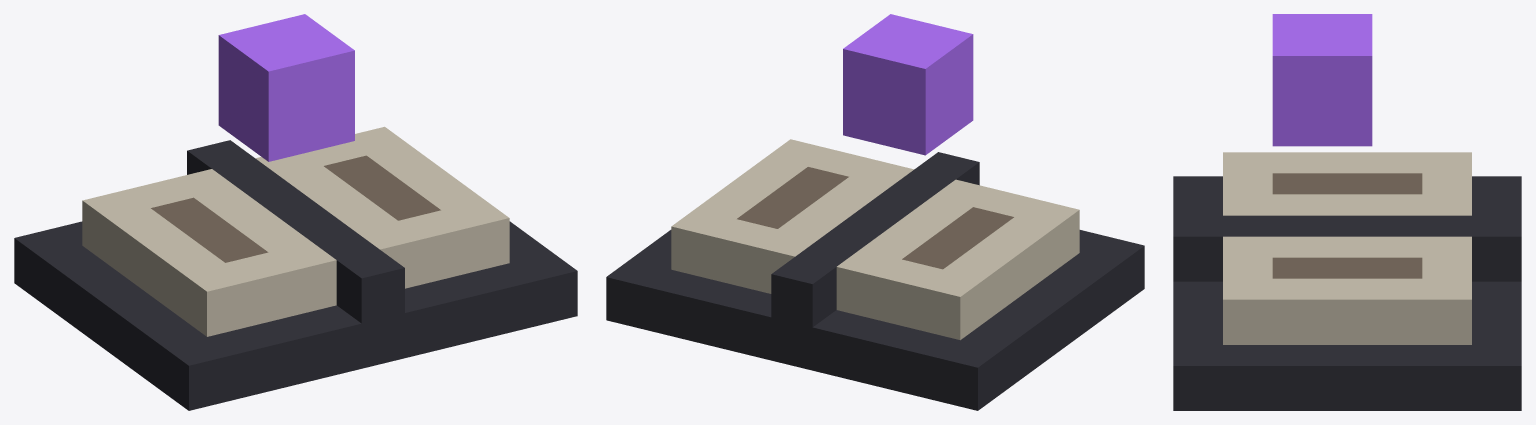
Rendered from vox_tome_rune.glb.
The picture shows the model from 3 angles, left to right: view 1: azimuth 30°, elevation 25°; view 2: azimuth 150°, elevation 25°; view 3: azimuth 270°, elevation 25°; orthographic projection. The views are drawn at different scales.
Visible parts, largest first — view 1: vox_tome_rune; view 2: vox_tome_rune; view 3: vox_tome_rune.
Part boxes in pixels (x1=…): vox_tome_rune: x1=14, y1=14, x2=577, y2=410; vox_tome_rune: x1=606, y1=14, x2=1144, y2=410; vox_tome_rune: x1=1173, y1=14, x2=1521, y2=410.
Size of the model in its own units: 0.18 by 0.12 by 0.14.
